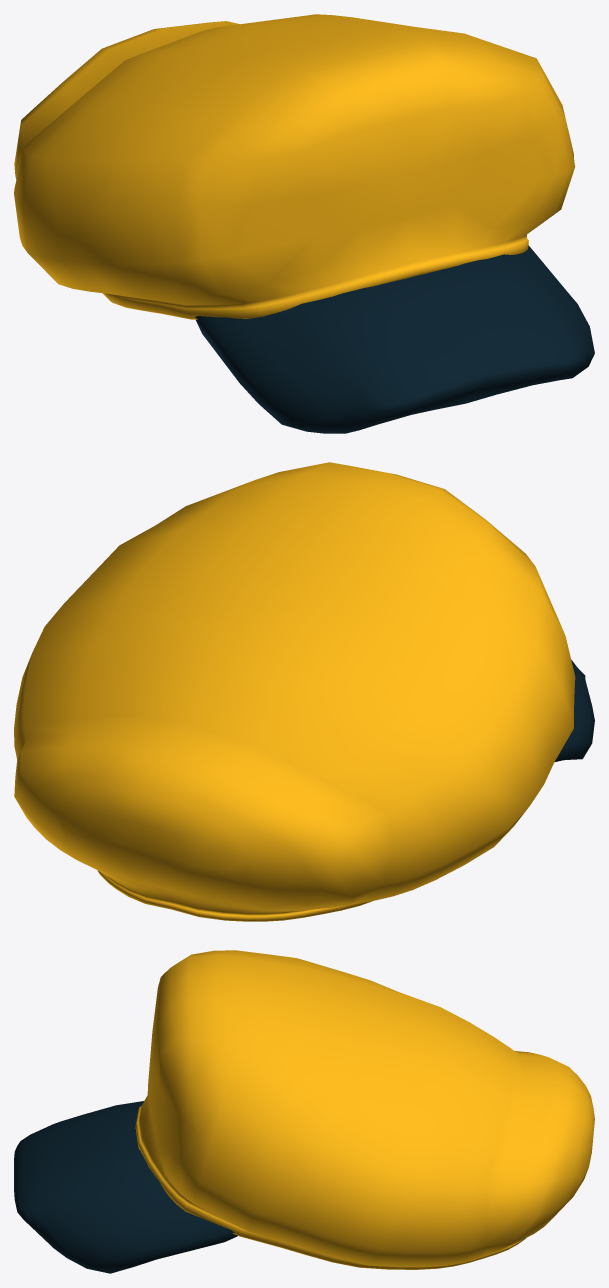
The model's file is taxi_hat 1.fbx.
The picture shows the model from 3 angles, top to bottom: view 1: azimuth 30°, elevation 25°; view 2: azimuth 150°, elevation 25°; view 3: azimuth 270°, elevation 25°; orthographic projection. The views are drawn at different scales.
Visible parts, largest first — view 1: Mario_Hat; view 2: Mario_Hat; view 3: Mario_Hat.
Boxes of the visible parts, box(x1,y1,x2,y2) form: Mario_Hat: box(14, 14, 594, 433); Mario_Hat: box(14, 462, 594, 921); Mario_Hat: box(14, 950, 594, 1273).
Size of the model in its own units: 165 by 94.28 by 206.
